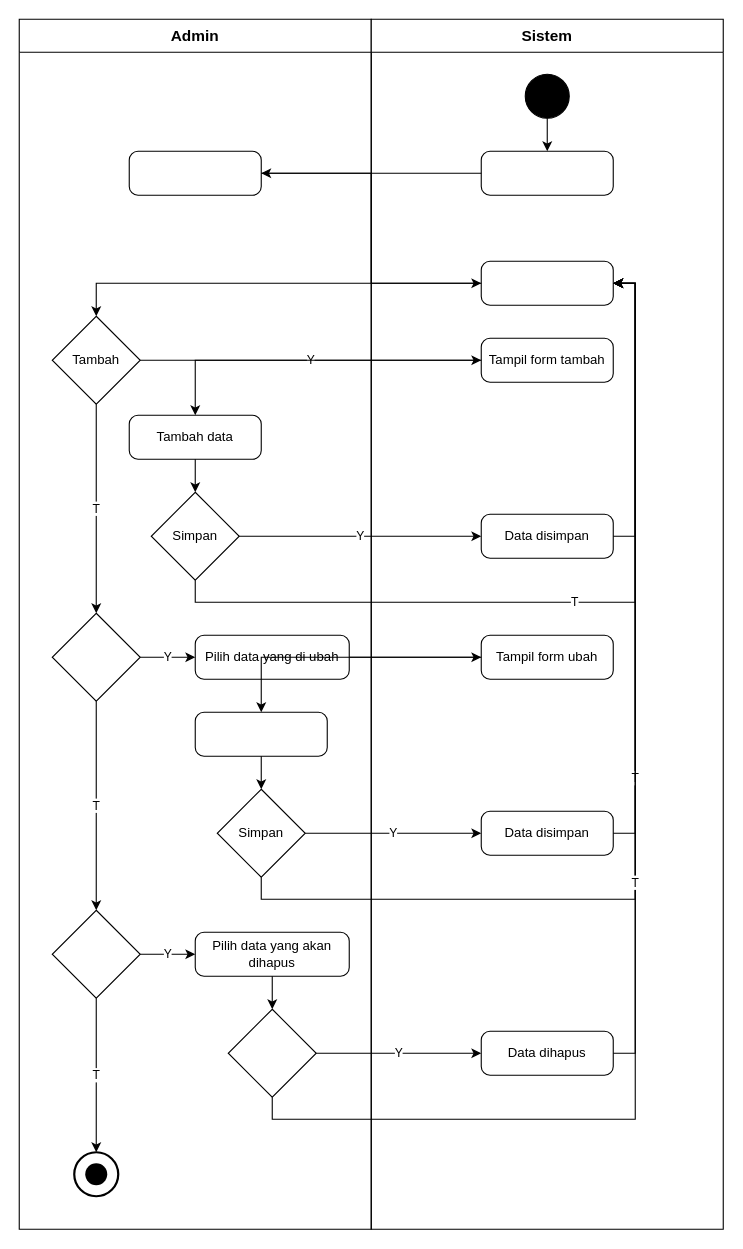
The diagram is 743 pixels wide and 1249 high, and some of its shapes have lost their labels. The centre of each missing label's shape, as x and y in pixels:
Hapus: pixel 95 953
Pilih menu hutang: pixel 194 172
Tampil beranda: pixel 546 172
Tampil data hutang: pixel 546 282
Ubah: pixel 95 656
Ubah data: pixel 260 733
Yakin hapus: pixel 271 1052
